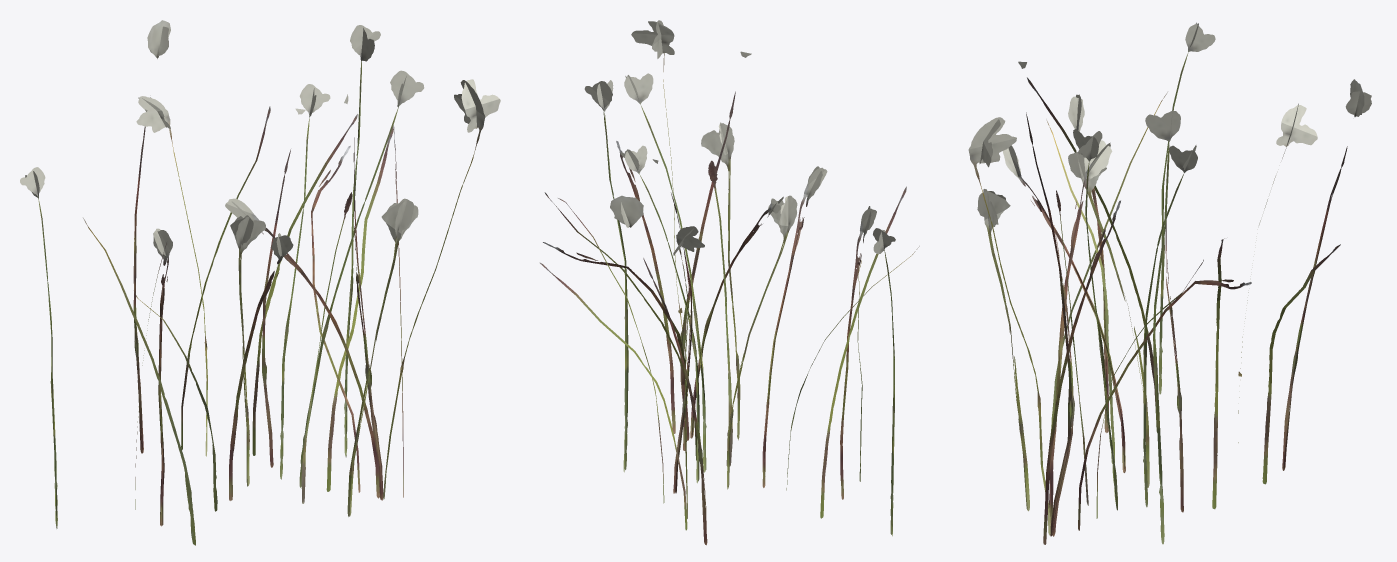
3 views of the same model, side by side, from view 1: azimuth 30°, elevation 25°; view 2: azimuth 150°, elevation 25°; view 3: azimuth 270°, elevation 25° (orthographic). The views are drawn at different scales.
Parts seen in each view (by area): view 1: ot_lod2; view 2: ot_lod2; view 3: ot_lod2.
Part boxes in pixels (box(x1,y1,x2,y2)): ot_lod2: box(20, 20, 500, 545); ot_lod2: box(539, 20, 919, 545); ot_lod2: box(968, 22, 1371, 544).
Size of the model in its own units: 0.8003 by 0.8426 by 0.69.
1 material, 1 textured.
